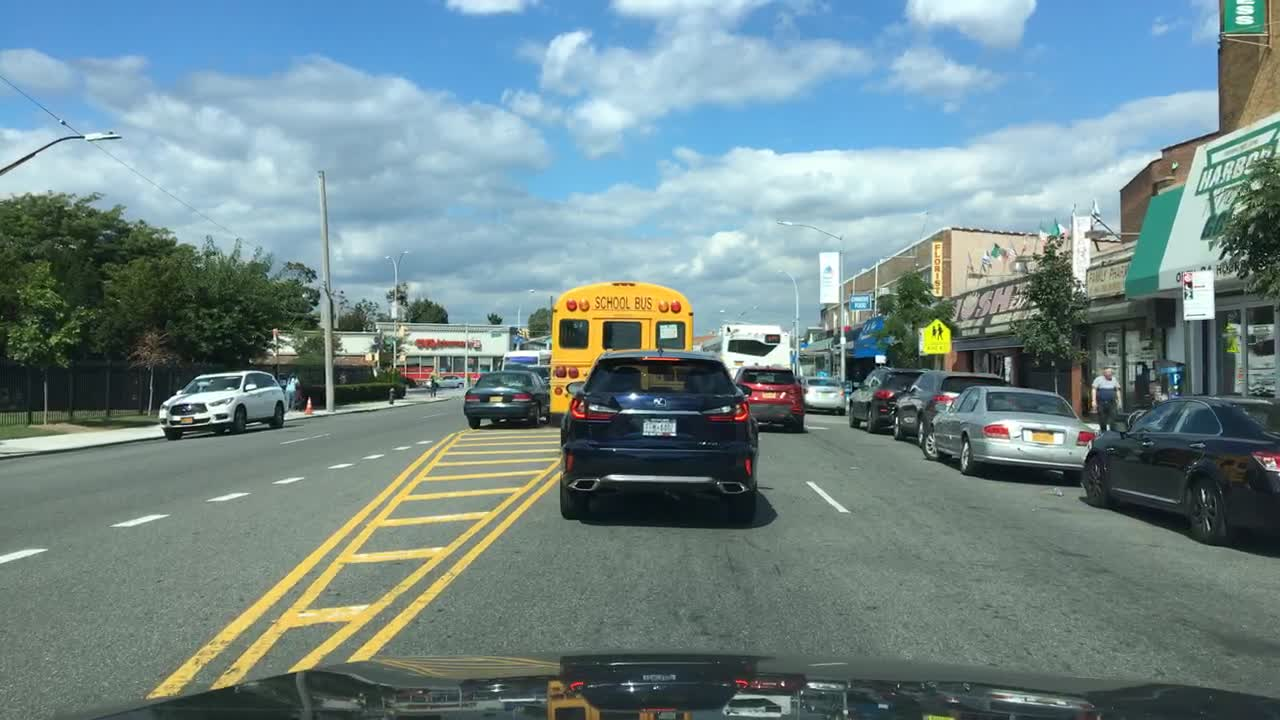bus: (547, 278, 691, 421), (693, 322, 794, 389)
car: (557, 331, 765, 524), (1081, 394, 1279, 551), (920, 385, 1094, 476), (888, 371, 1013, 448), (156, 370, 285, 440), (846, 364, 935, 433), (461, 367, 553, 428), (732, 364, 806, 432), (798, 375, 848, 417), (424, 371, 461, 389)
person: (1087, 365, 1123, 434), (284, 373, 297, 410), (427, 371, 439, 399)
traffic light: (362, 351, 372, 362)
traffic sign: (1182, 271, 1214, 322), (919, 319, 953, 355)
truck: (502, 351, 553, 369)
